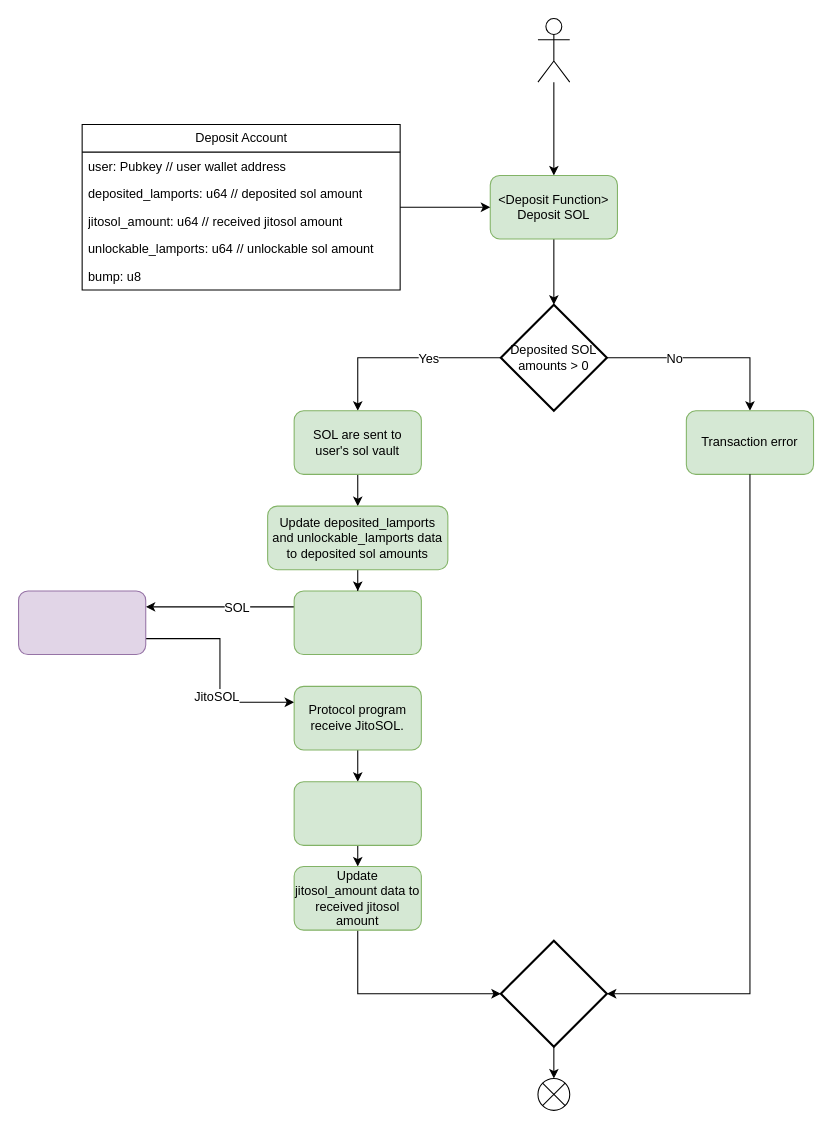
Some shapes in this 832 by 1129 pixel diagram are drawn without their labels. The centre of each missing label's shape, as x and y in pixels:
Jito: point (81, 622)
Send JitoSOL vault of each user: point (357, 813)
Stake sol of vault to Jito. Use Jito CPI(deposit_sol): point (357, 622)
User: point (553, 49)
